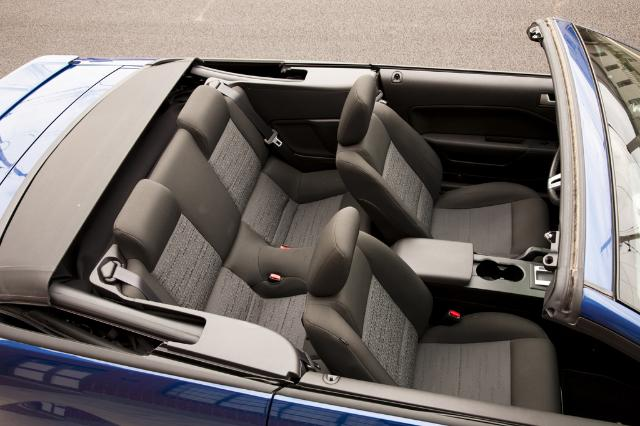Seatbelt: (115, 266, 163, 302)
